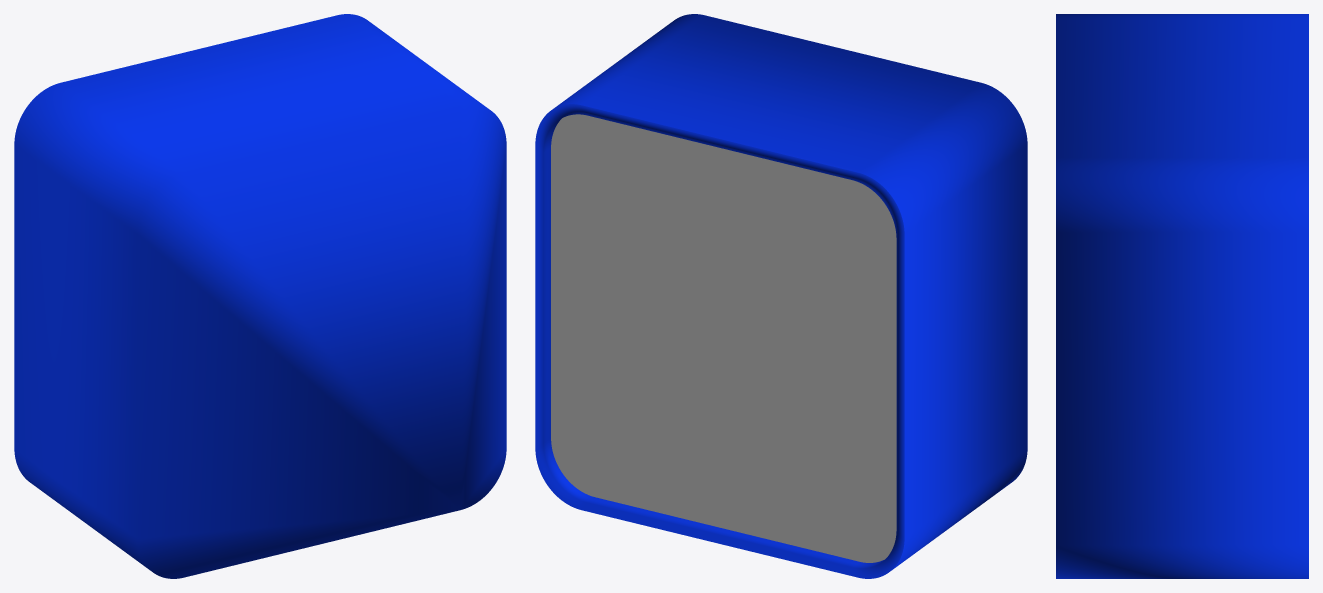
Rendered from stand product_asset.fbx.
The picture shows the model from 3 angles, left to right: view 1: azimuth 30°, elevation 25°; view 2: azimuth 150°, elevation 25°; view 3: azimuth 270°, elevation 25°; orthographic projection. The views are drawn at different scales.
Visible parts, largest first — view 1: Cube; view 2: Cube.001, Cube; view 3: Cube.
Part boxes in pixels (x1,y1,x2,y2): Cube: (14, 14, 506, 578); Cube.001: (551, 114, 896, 562); Cube: (535, 14, 1027, 578); Cube: (1056, 14, 1308, 578).
Bounding box in the file's own units: 539 × 565 × 311.
